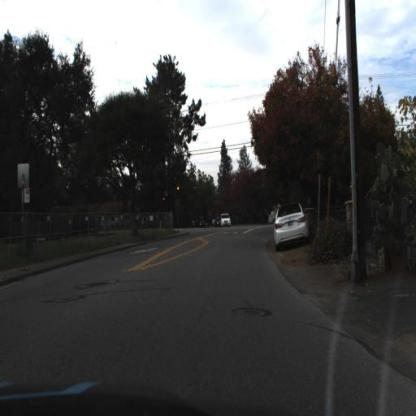car: (270, 197, 314, 252), (221, 209, 235, 232)
trafficLight-Red: (161, 192, 169, 208), (175, 181, 181, 197)
